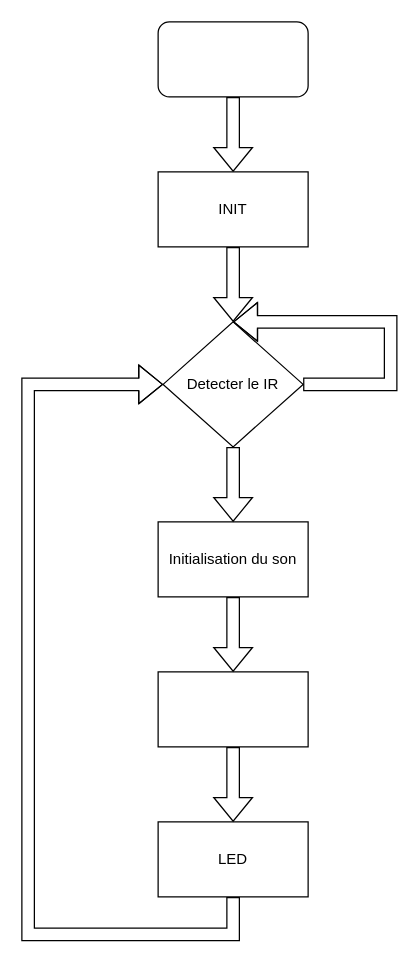
Image size: 419x963. Some labels were removed from this diagram. The box of each missing label's shape, as (x1, y1, x2, y2) in pixels:
Debut: (157, 21, 308, 97)
Son: (157, 671, 308, 747)
